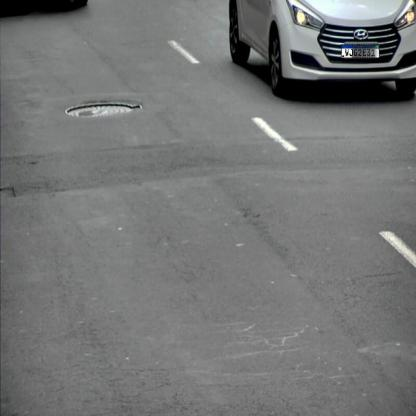PlacaM: (341, 44, 380, 58)
